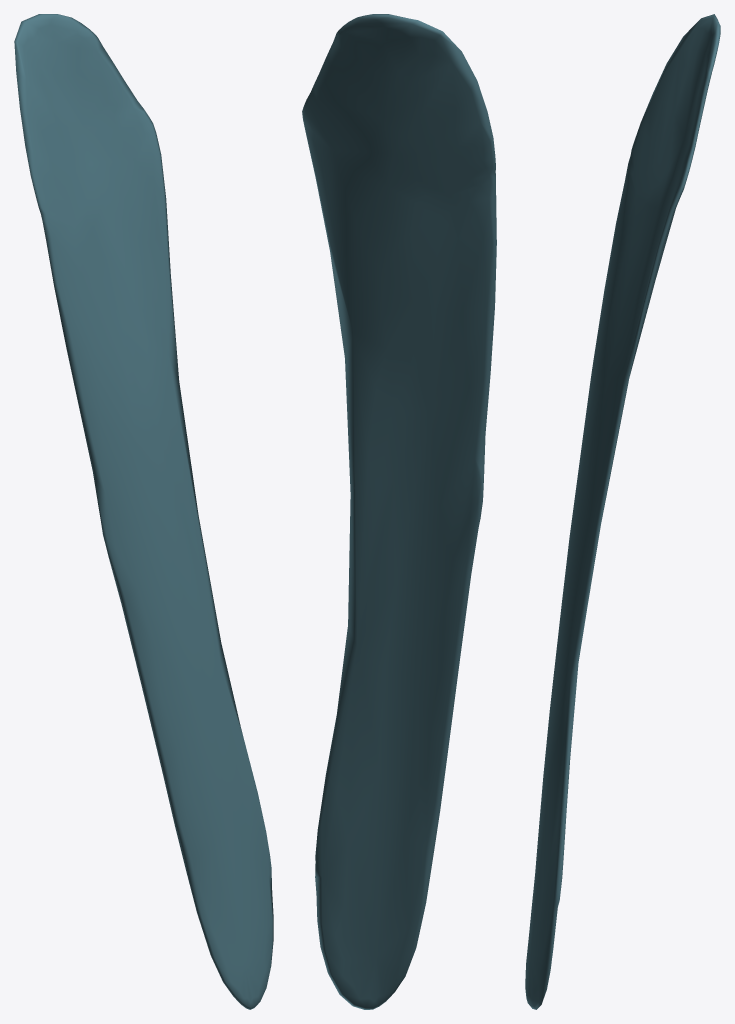
Rendered from Gluteus_maximus_ending_on_gluteal_surface.r_Generated_Mesh_From.glb.
3 views of the same model, side by side, from view 1: azimuth 30°, elevation 25°; view 2: azimuth 150°, elevation 25°; view 3: azimuth 270°, elevation 25° (orthographic). The views are drawn at different scales.
Visible parts, largest first — view 1: Gluteus_maximus_ending_on_gluteal_surface.r_Generated_Mesh_F; view 2: Gluteus_maximus_ending_on_gluteal_surface.r_Generated_Mesh_F; view 3: Gluteus_maximus_ending_on_gluteal_surface.r_Generated_Mesh_F.
Boxes of the visible parts, x1,y1,x2,y2 form: Gluteus_maximus_ending_on_gluteal_surface.r_Generated_Mesh_F: (14, 14, 273, 1009); Gluteus_maximus_ending_on_gluteal_surface.r_Generated_Mesh_F: (302, 14, 496, 1009); Gluteus_maximus_ending_on_gluteal_surface.r_Generated_Mesh_F: (525, 14, 720, 1009).
Bounding box in the file's own units: 0.0173 × 0.0797 × 0.0152.
